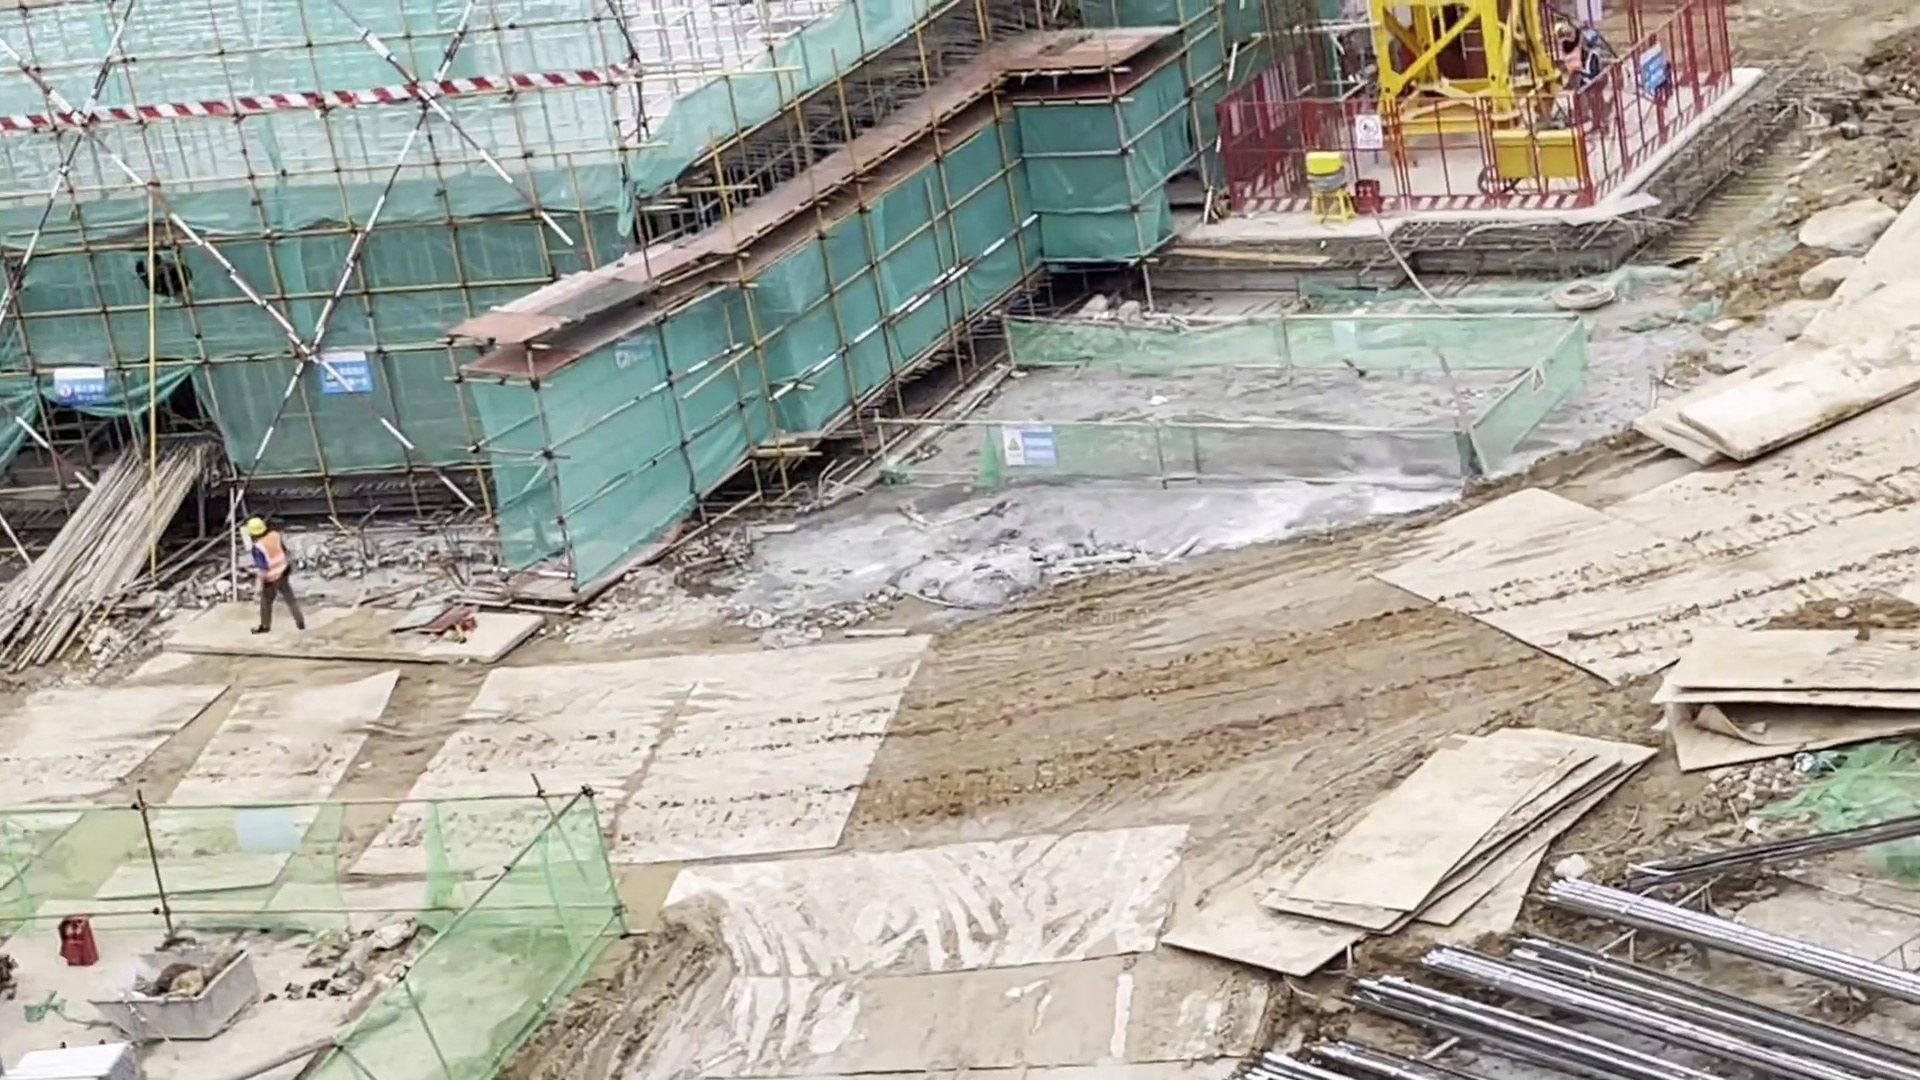ebox: (1489, 125, 1586, 189)
helmet: (1549, 21, 1579, 41), (246, 523, 267, 539)
hopper: (91, 933, 259, 1051)
person: (247, 511, 302, 637), (1577, 17, 1607, 111), (1549, 11, 1577, 98)
rebar: (1389, 959, 1837, 1080)
vest: (255, 537, 290, 588), (1562, 44, 1581, 88), (1581, 51, 1603, 83)
